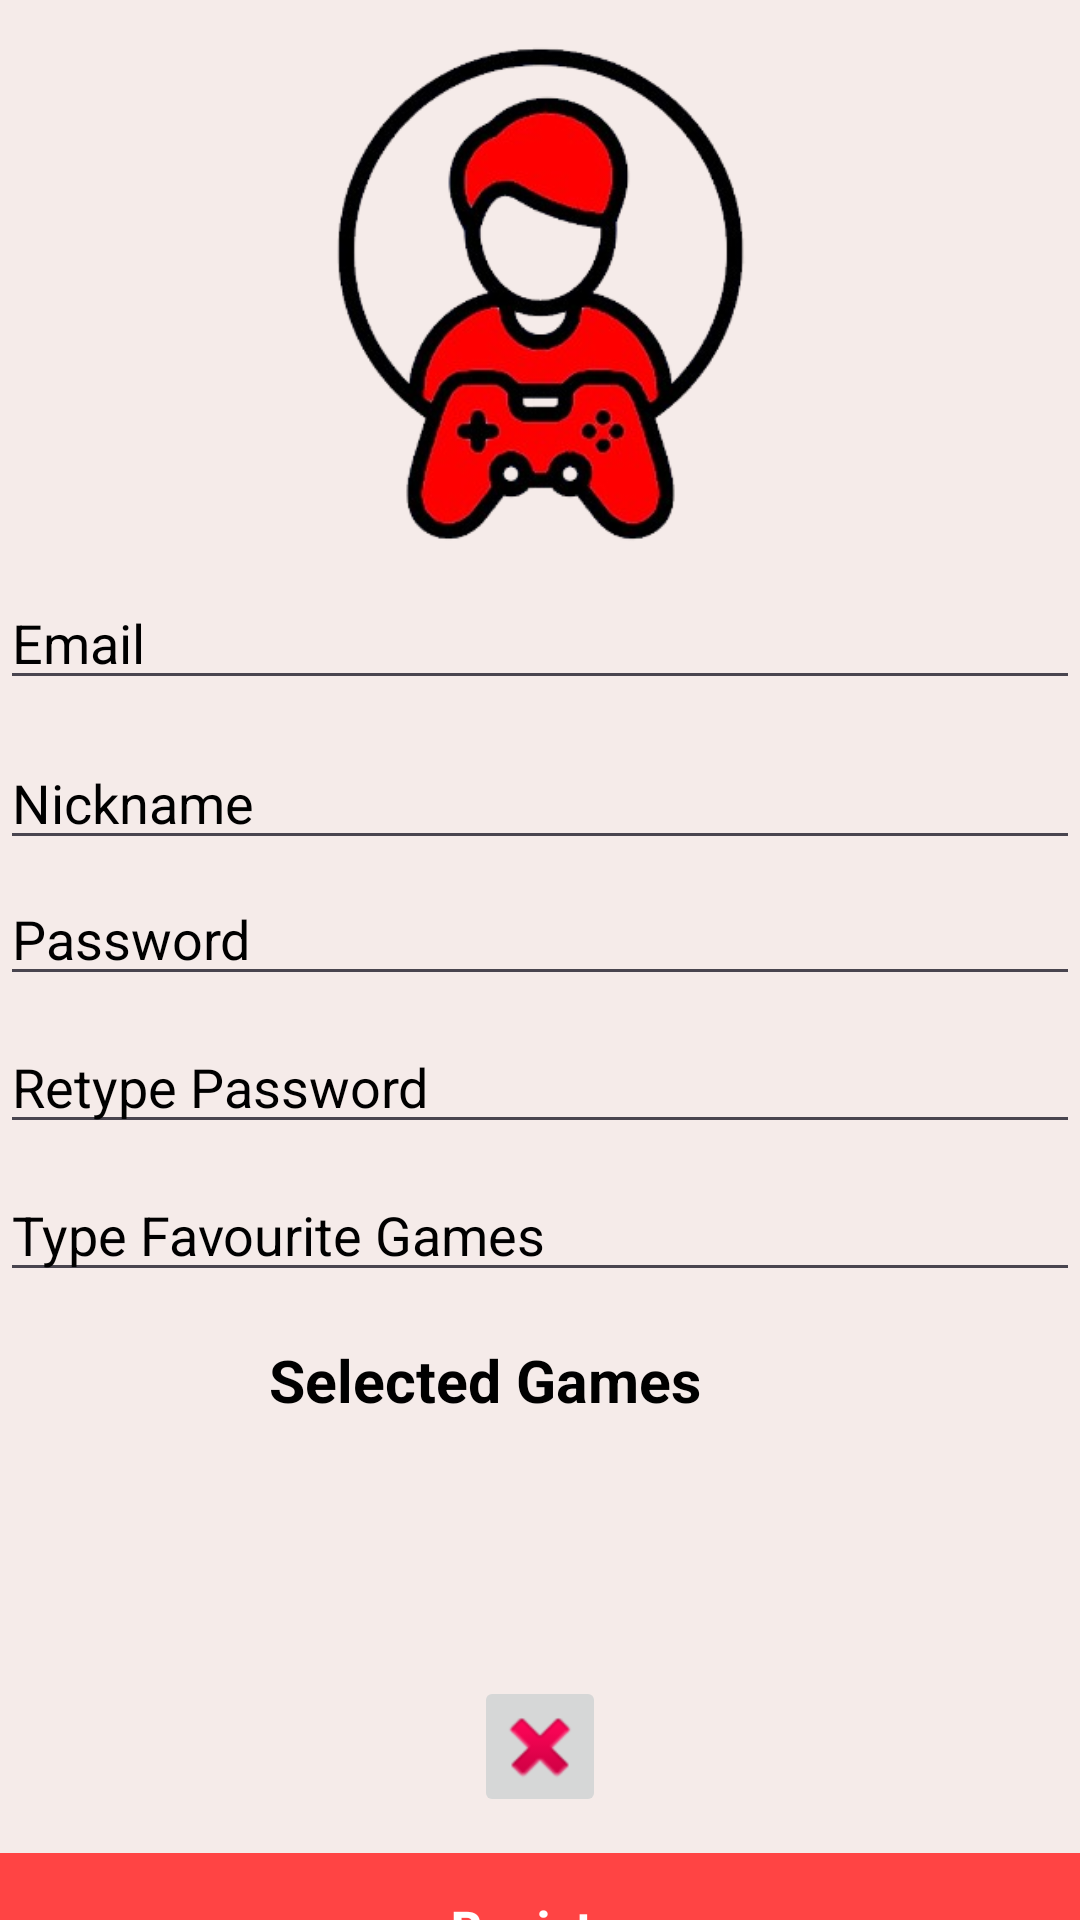

Screen size 1080×1920. Icon name, then its box in pixels as (x1, y1, x2, y2):
Delete last game: (486, 1694, 594, 1799)
